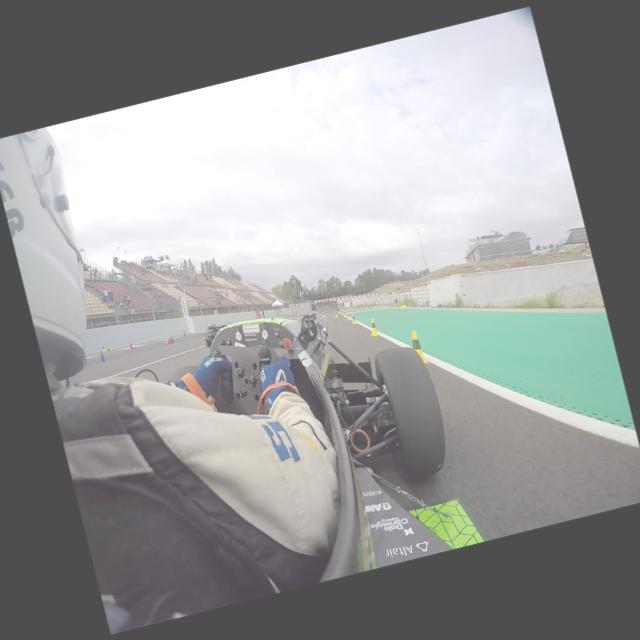blue_cone: (97, 350, 105, 362), (169, 334, 175, 344), (182, 330, 186, 337)
orange_cone: (163, 336, 172, 345), (128, 341, 136, 348), (106, 345, 112, 351)
yellow_cone: (409, 330, 428, 364), (366, 318, 379, 338), (349, 314, 355, 324), (100, 344, 107, 352), (402, 300, 407, 307), (346, 312, 350, 320), (333, 310, 338, 316), (342, 311, 346, 317), (320, 311, 324, 317), (296, 314, 300, 320), (401, 301, 405, 307), (392, 301, 396, 306), (400, 301, 403, 307)
